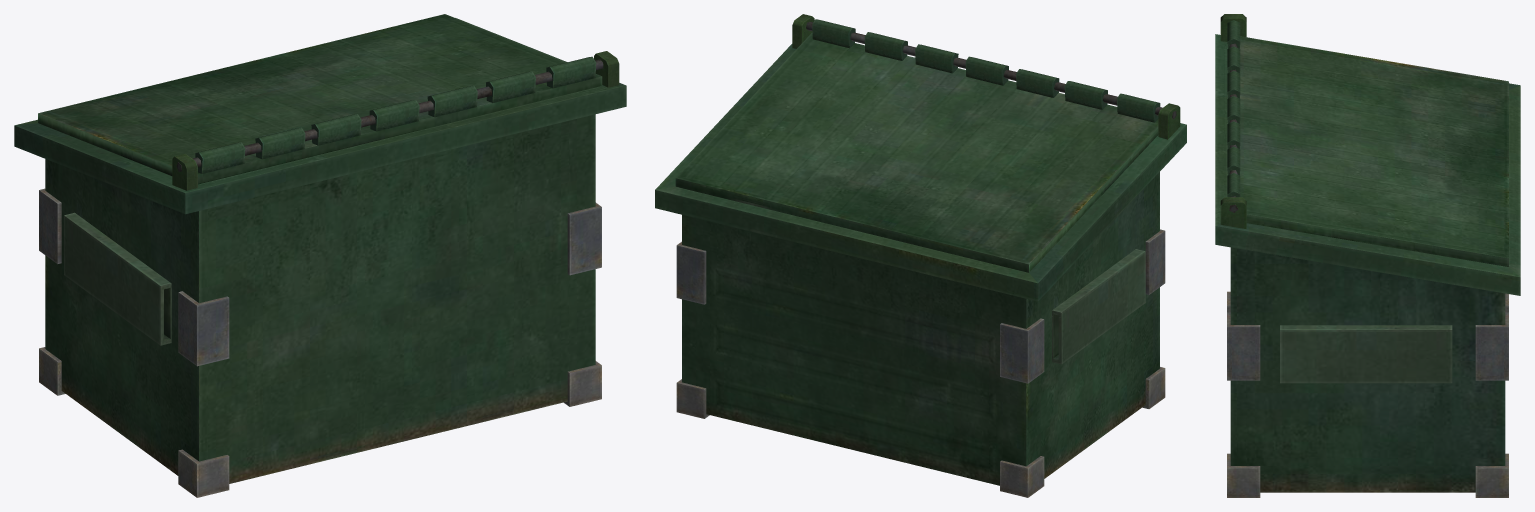
Rendered from Dumpster.glb.
3 views of the same model, side by side, from view 1: azimuth 30°, elevation 25°; view 2: azimuth 150°, elevation 25°; view 3: azimuth 270°, elevation 25° (orthographic). The views are drawn at different scales.
Parts seen in each view (by area): view 1: Dumpster__LOD3; view 2: Dumpster__LOD3; view 3: Dumpster__LOD3.
Boxes of the visible parts, <box> form: Dumpster__LOD3: <box>14,14,626,497</box>; Dumpster__LOD3: <box>655,14,1186,497</box>; Dumpster__LOD3: <box>1215,14,1520,497</box>.
Bounding box in the file's own units: 1.59 × 1.18 × 1.07.
Materials: 1 (1 with a texture image).
